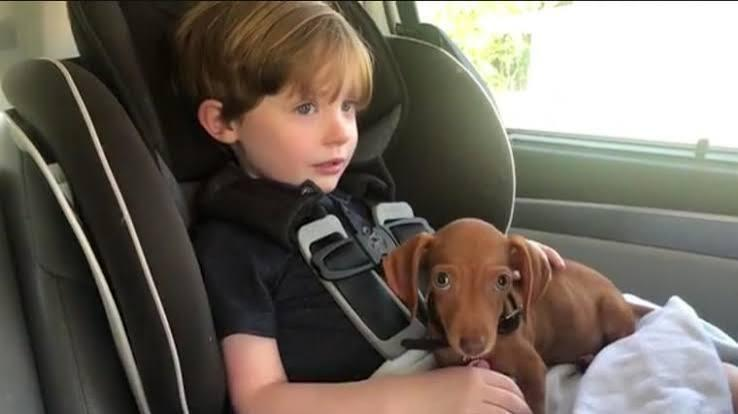non-dog: (186, 4, 565, 409)
puppy-dog: (380, 216, 656, 411)
